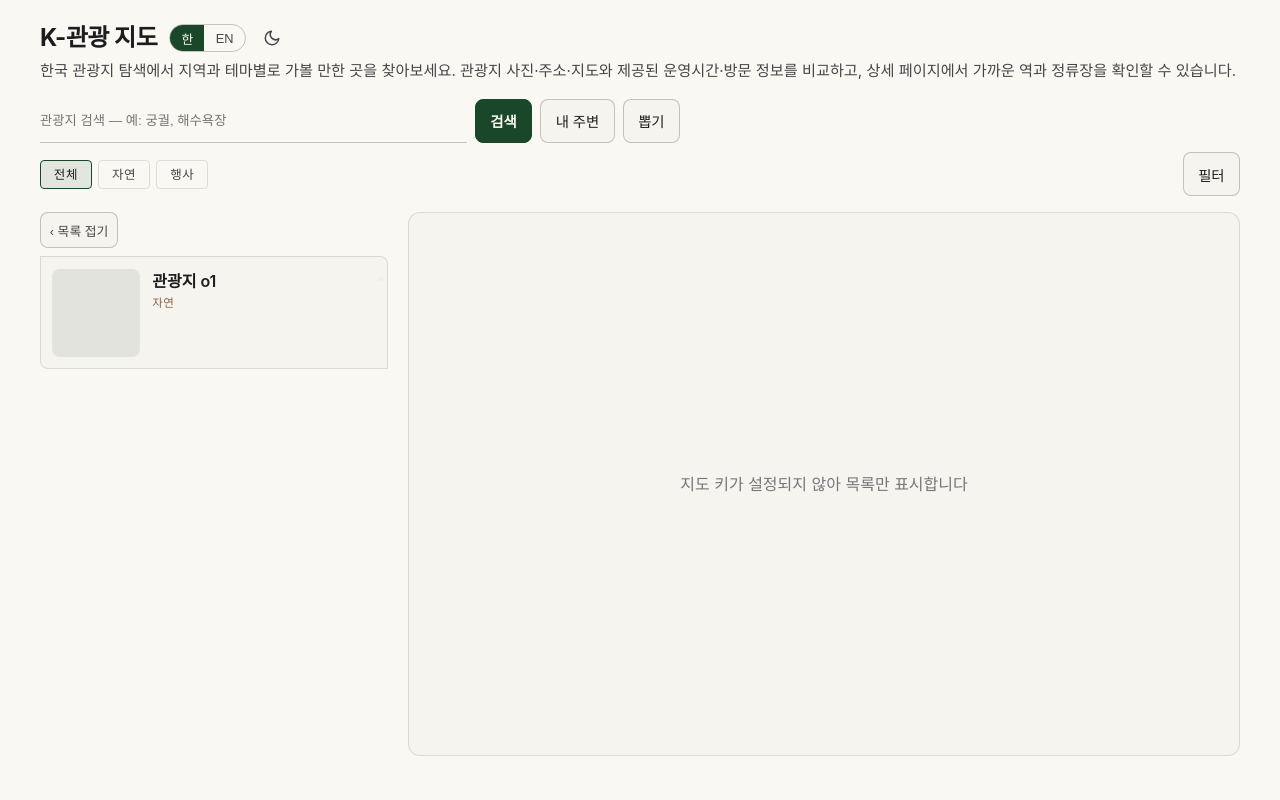
Test case: PlacePage 개요 표시 › 패널은 단건 원문의 엔티티·태그를 정리해 그린다
The image size is (1280, 800).
Click the heading "관광지 o1" at (184, 281), box x1=152 y1=269 x2=216 y2=293
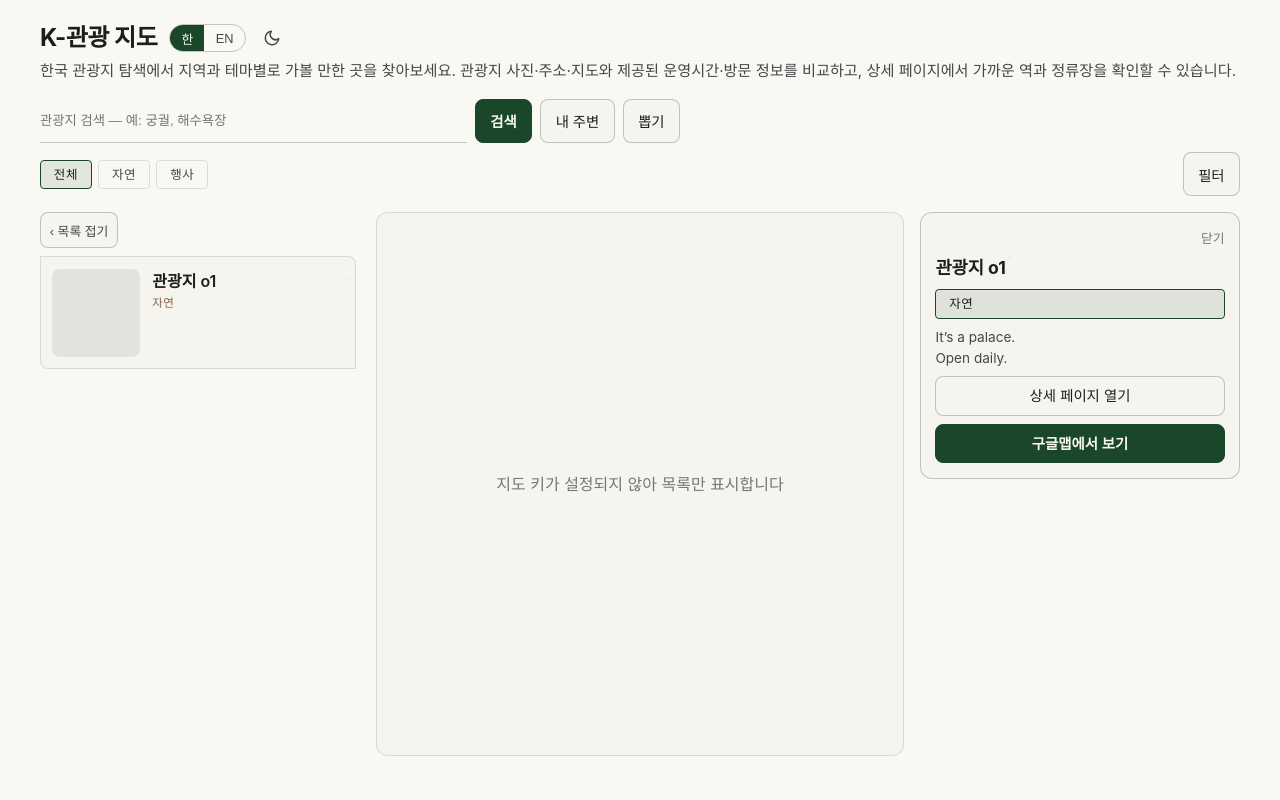
Result: the text "It’s a palace. Open daily." is shown at x1=935 y1=330 x2=1015 y2=366
